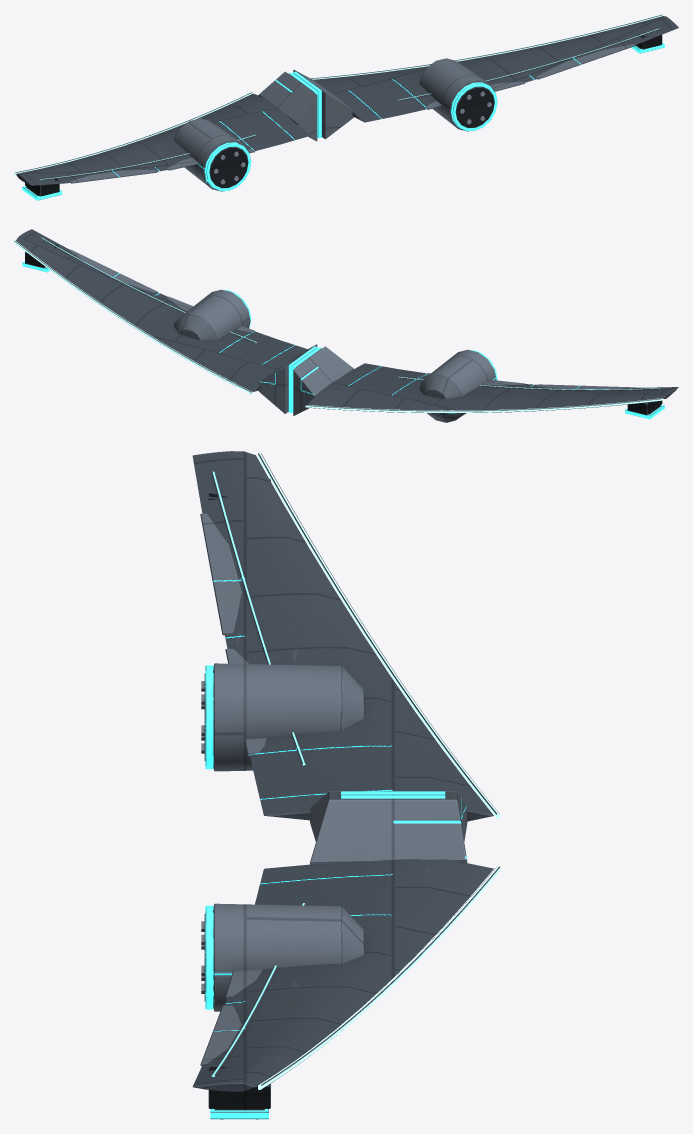
File: ala_larga_t3.fbx
3 views of the same model, one above another, from view 1: azimuth 30°, elevation 25°; view 2: azimuth 150°, elevation 25°; view 3: azimuth 270°, elevation 25° (orthographic). The views are drawn at different scales.
Parts seen in each view (by area): view 1: ala_larga_t3_der, ala_larga_t3_izq, ala_larga_t3_der_neon, ala_larga_t3_izq_neon; view 2: ala_larga_t3_der, ala_larga_t3_izq, ala_larga_t3_izq_neon, ala_larga_t3_der_neon; view 3: ala_larga_t3_izq, ala_larga_t3_der, ala_larga_t3_izq_neon, ala_larga_t3_der_neon.
Part boxes in pixels (x1,y1,x2,y2): ala_larga_t3_der: (293, 14, 678, 139); ala_larga_t3_izq: (15, 71, 317, 200); ala_larga_t3_der_neon: (310, 14, 662, 79); ala_larga_t3_izq_neon: (14, 91, 252, 174); ala_larga_t3_der: (14, 229, 317, 413); ala_larga_t3_izq: (292, 346, 678, 422); ala_larga_t3_izq_neon: (305, 398, 662, 412); ala_larga_t3_der_neon: (14, 240, 252, 394); ala_larga_t3_izq: (192, 451, 499, 841); ala_larga_t3_der: (192, 795, 500, 1119); ala_larga_t3_izq_neon: (258, 453, 500, 818); ala_larga_t3_der_neon: (258, 866, 500, 1089).
Bounding box in the file's own units: 23.02 × 2.07 × 4.73.
